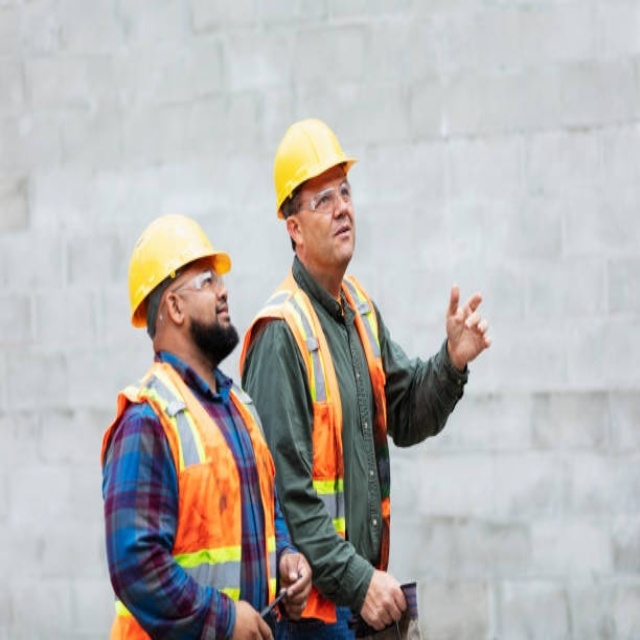Gafas: (293, 184, 353, 216), (168, 269, 217, 296)
Sin_guantes: (445, 282, 491, 366), (358, 567, 409, 632), (230, 593, 274, 640), (280, 557, 310, 614)
Sin_mascara: (213, 296, 238, 340), (328, 223, 353, 254)
